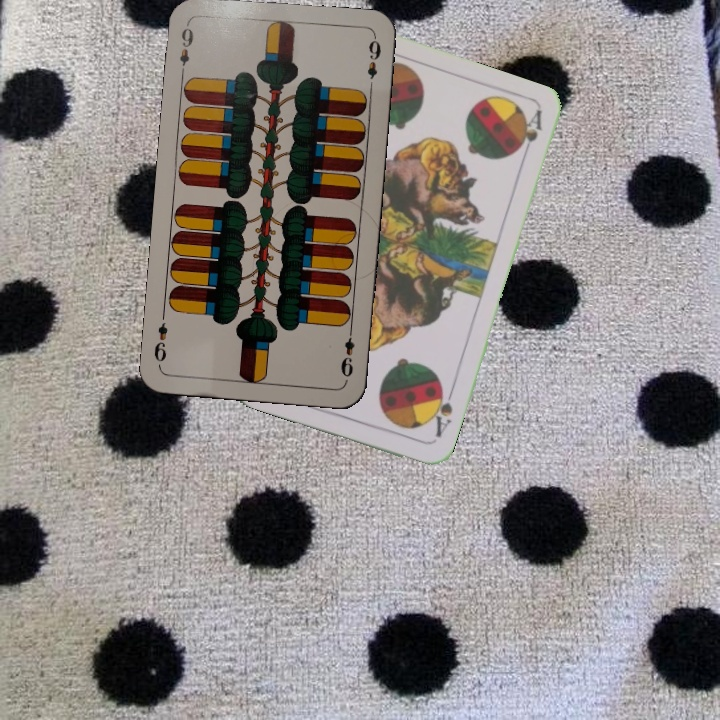E9: (175, 19, 196, 78), (337, 324, 357, 383)
SA: (426, 383, 456, 440)
